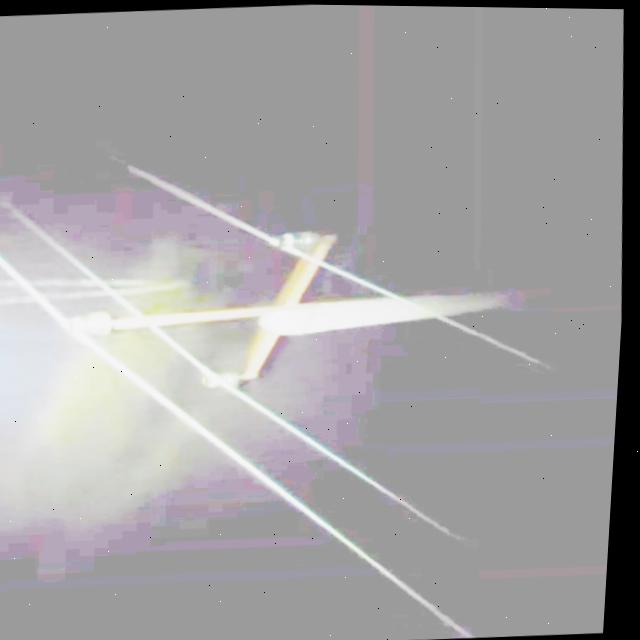poles: (72, 233, 493, 386)
wires: (75, 329, 440, 609), (219, 439, 480, 637), (225, 382, 441, 523), (295, 250, 545, 363), (130, 166, 279, 244), (40, 231, 144, 315), (0, 254, 68, 323), (5, 261, 70, 325), (155, 325, 223, 377), (82, 338, 103, 351)
